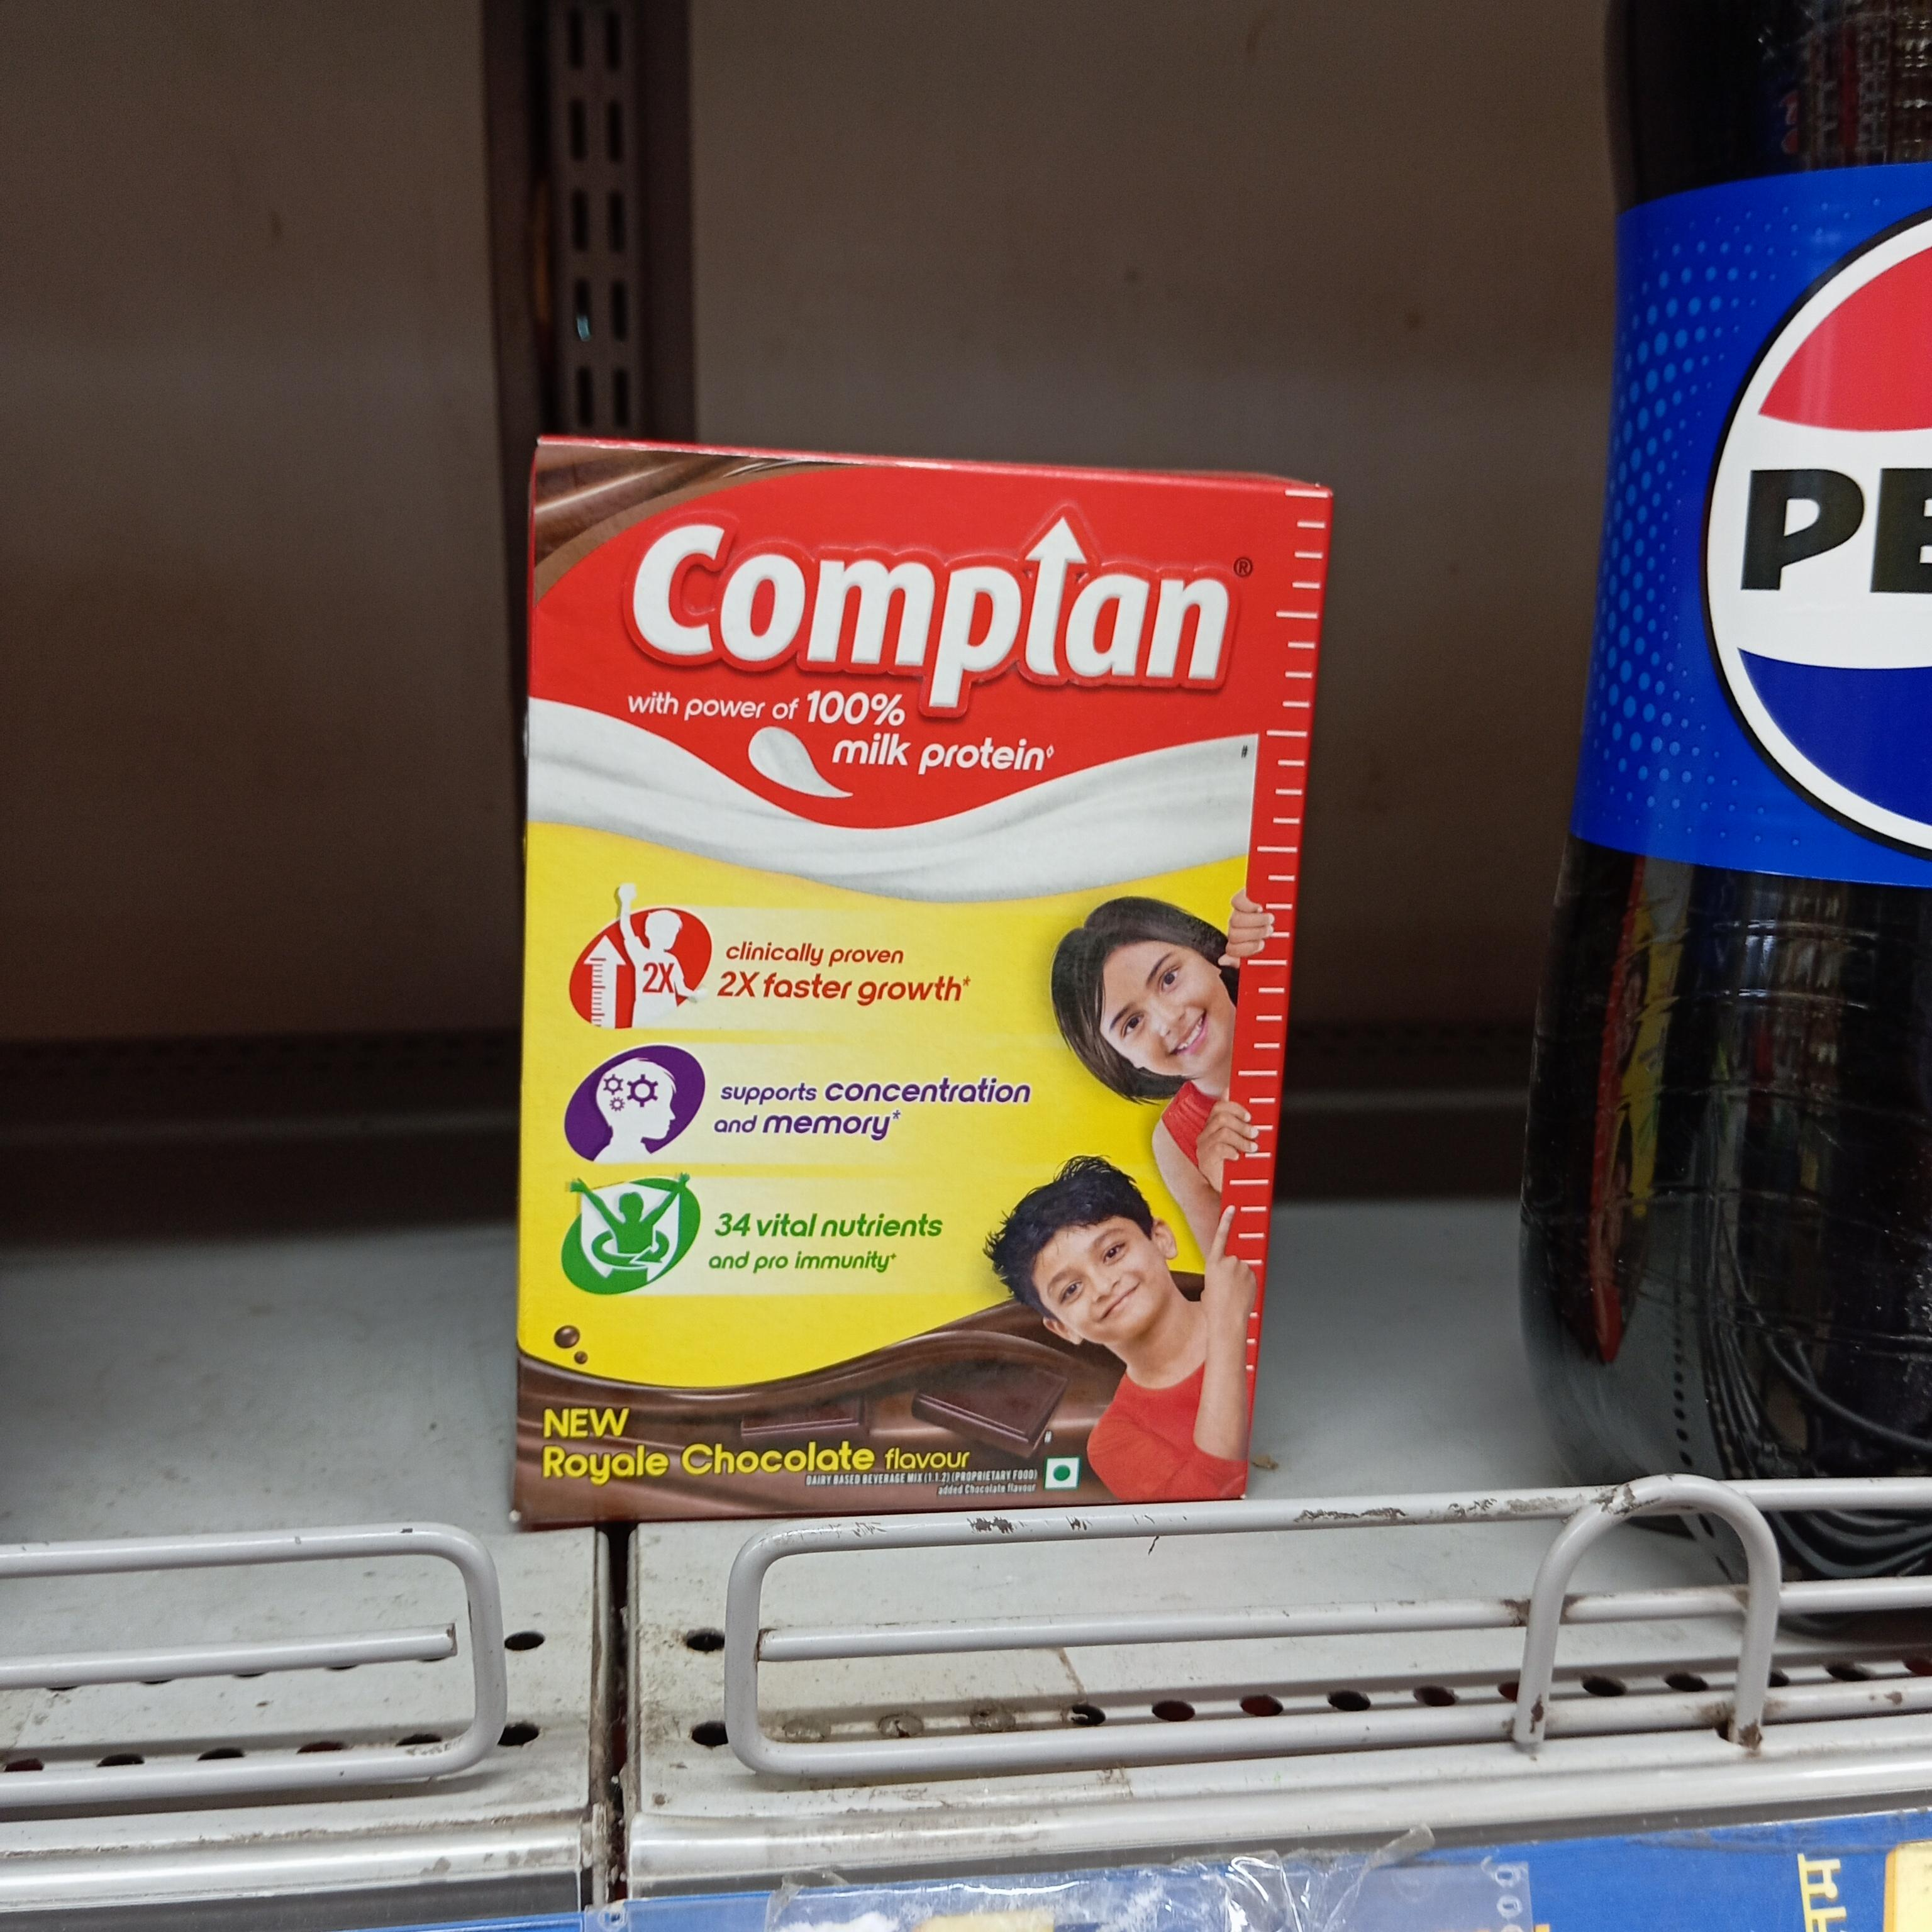COMPLAN_CHOCOLATE_200_GMS_PACK: (527, 432, 1265, 1522)
